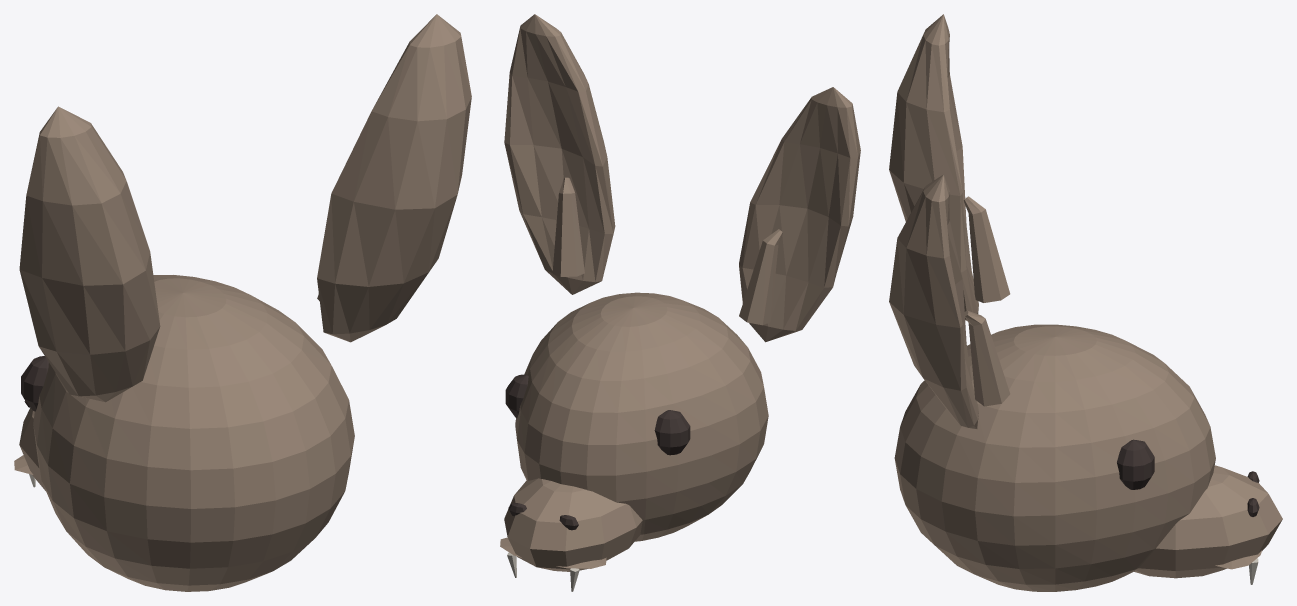
File: bat_head_original_01.glb
3 views of the same model, side by side, from view 1: azimuth 30°, elevation 25°; view 2: azimuth 150°, elevation 25°; view 3: azimuth 270°, elevation 25° (orthographic). The views are drawn at different scales.
Visible parts, largest first — view 1: B0_Head, B0_EarR, B0_EarL, B0_EyeL, B0_Muzzle; view 2: B0_Head, B0_EarR, B0_EarL, B0_Muzzle, B0_TragusR, B0_TragusL, B0_EyeL, B0_EyeR; view 3: B0_Head, B0_EarR, B0_EarL, B0_Muzzle, B0_TragusL, B0_TragusR, B0_EyeR.
Boxes of the visible parts, x1,y1,x2,y2 form: B0_Head: (33, 275, 354, 591); B0_EarR: (317, 14, 471, 342); B0_EarL: (19, 106, 160, 402); B0_EyeL: (21, 356, 48, 411); B0_Muzzle: (19, 407, 45, 490); B0_Head: (515, 292, 768, 541); B0_EarR: (504, 14, 615, 294); B0_EarL: (739, 87, 860, 342); B0_Muzzle: (504, 478, 642, 571); B0_TragusR: (552, 177, 584, 276); B0_TragusL: (739, 229, 782, 325); B0_EyeL: (654, 410, 690, 455); B0_EyeR: (505, 374, 528, 417); B0_Head: (894, 324, 1215, 591); B0_EarR: (889, 174, 978, 428); B0_EarL: (889, 14, 978, 320); B0_Muzzle: (1134, 465, 1282, 578); B0_TragusL: (963, 196, 1010, 302); B0_TragusR: (963, 310, 1010, 406); B0_EyeR: (1117, 439, 1154, 489).
Size of the model in its own units: 0.1984 by 0.24 by 0.1765.
